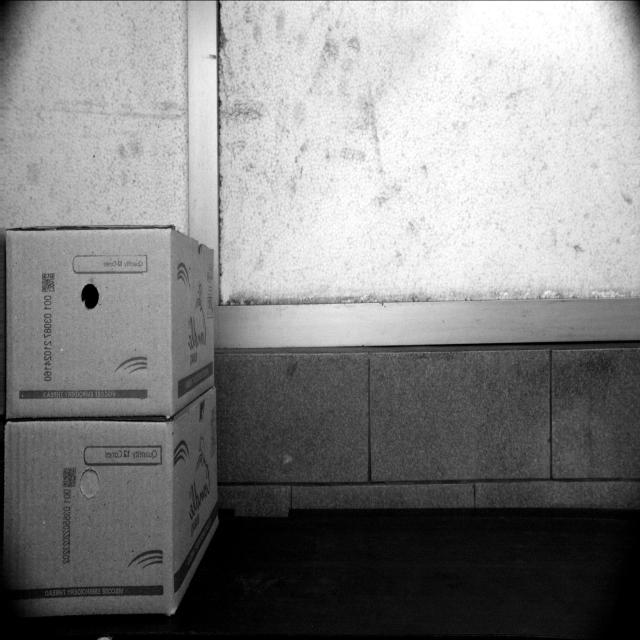cardboxes: (0, 423, 172, 613), (0, 232, 171, 415)
